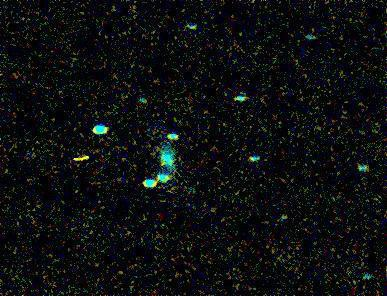star: (63, 153, 93, 183)
